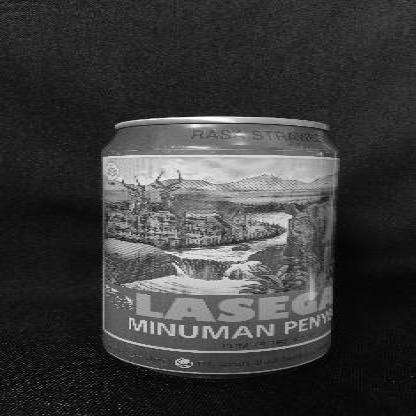alumunium_can: (101, 116, 342, 379)
